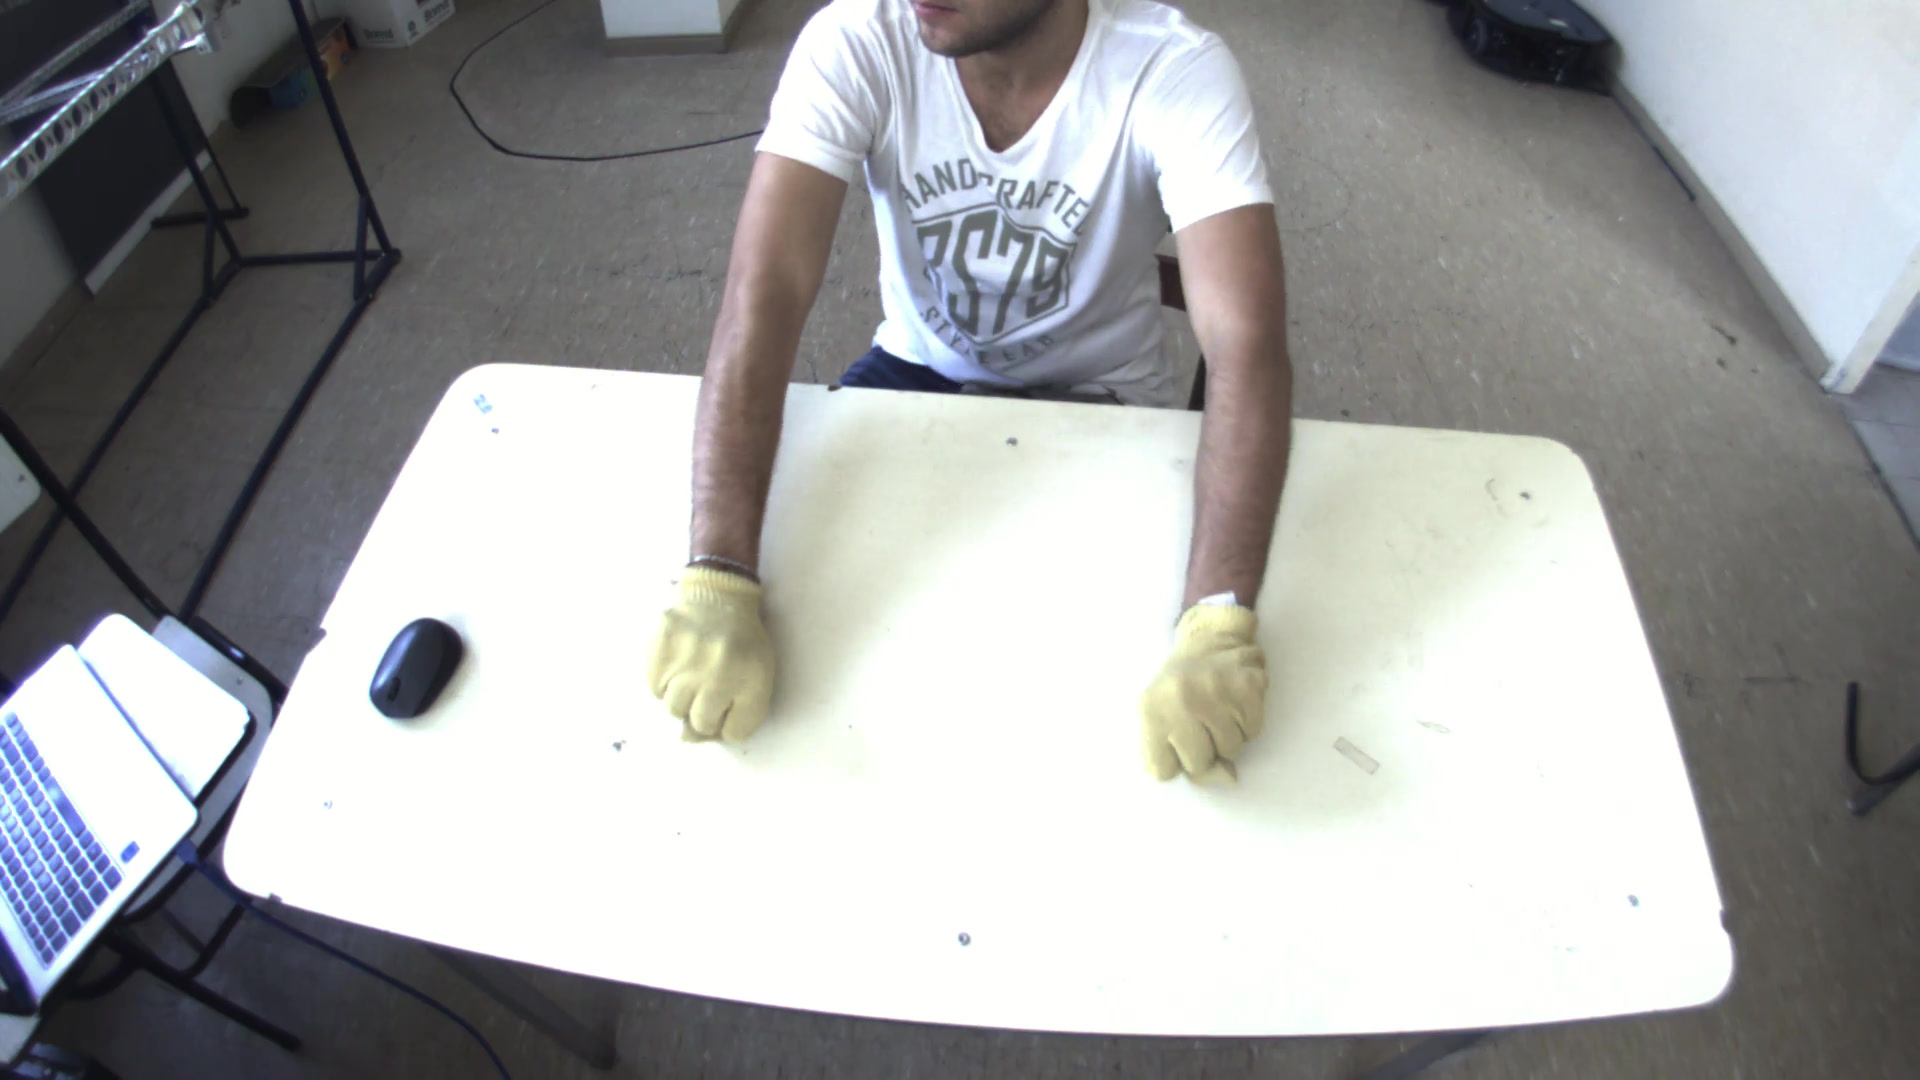hand: (1130, 588, 1284, 790), (632, 562, 794, 752)
